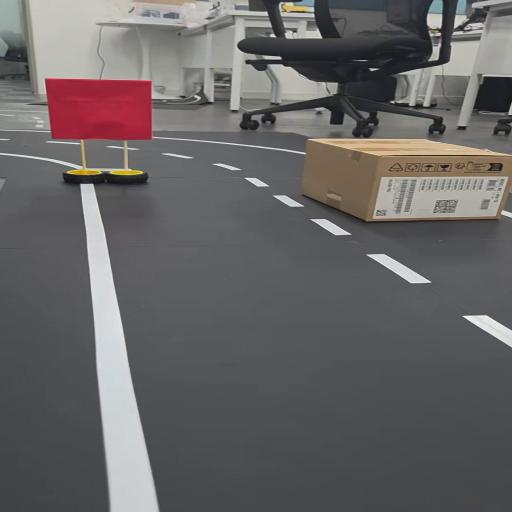Box: (297, 130, 512, 225)
Sign_A: (42, 76, 166, 193)
